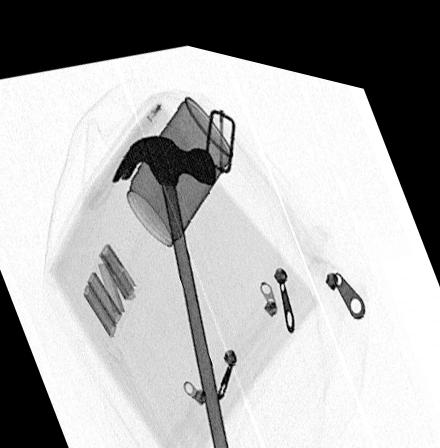Hammer: (112, 126, 231, 448)
